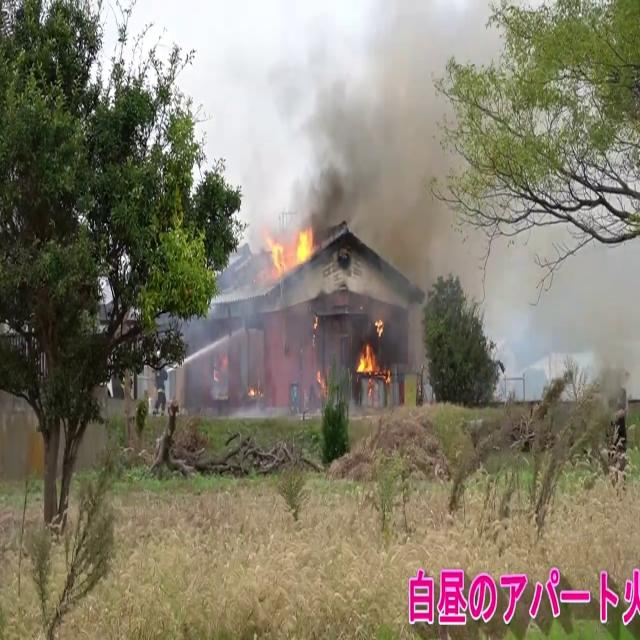Fire: (262, 218, 318, 282), (353, 313, 389, 382)
Smoke: (292, 3, 475, 266)
